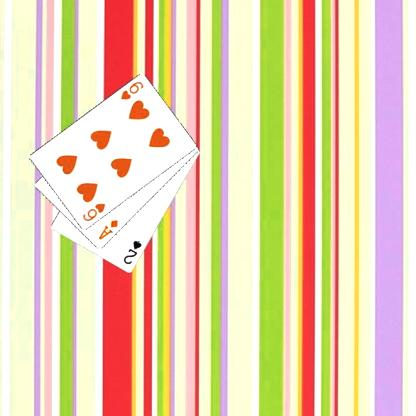2S: (120, 237, 142, 266)
6H: (118, 79, 145, 101), (80, 201, 106, 223)
AD: (96, 218, 120, 242)
